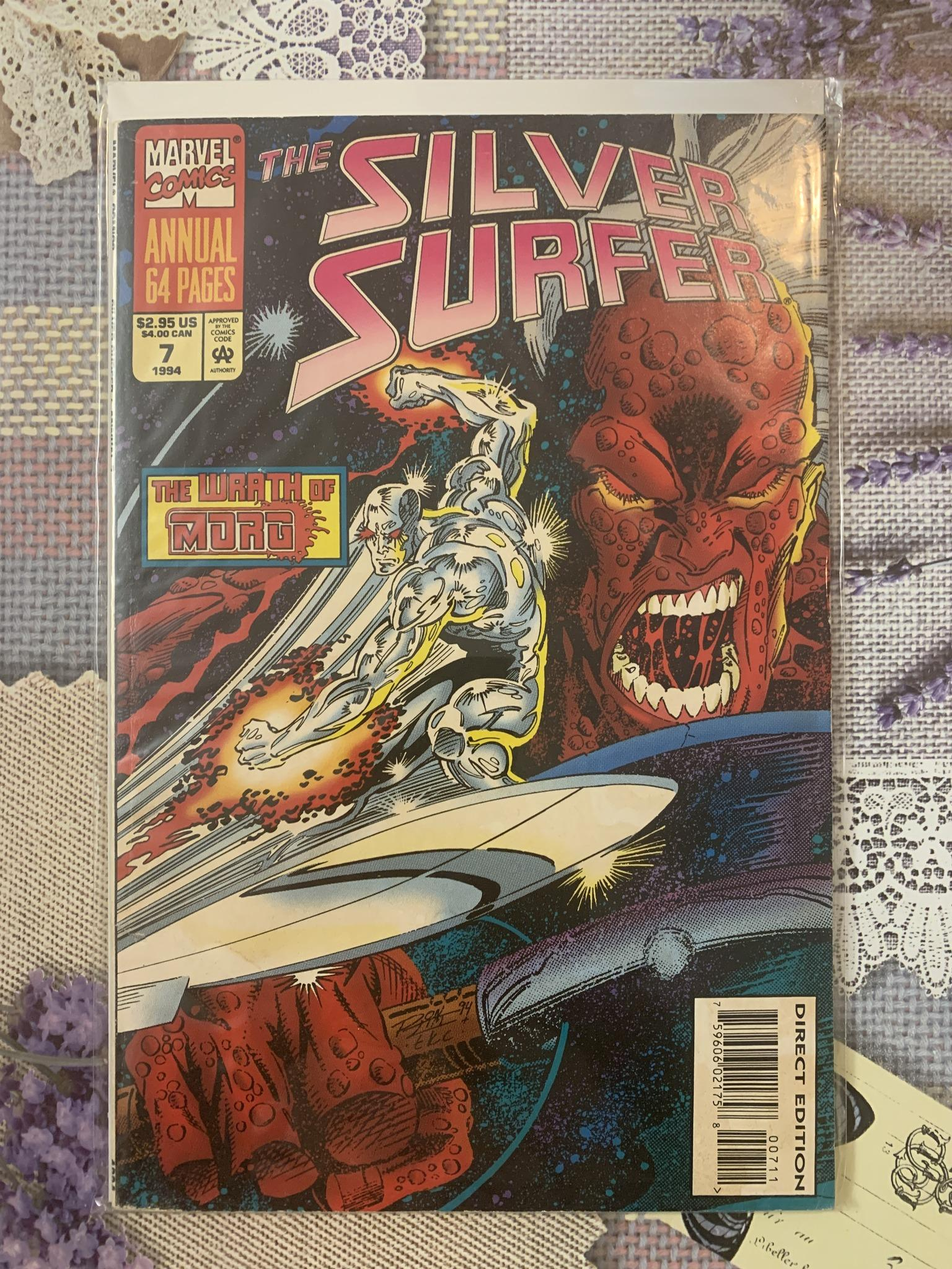comic: (106, 80, 834, 1213)
